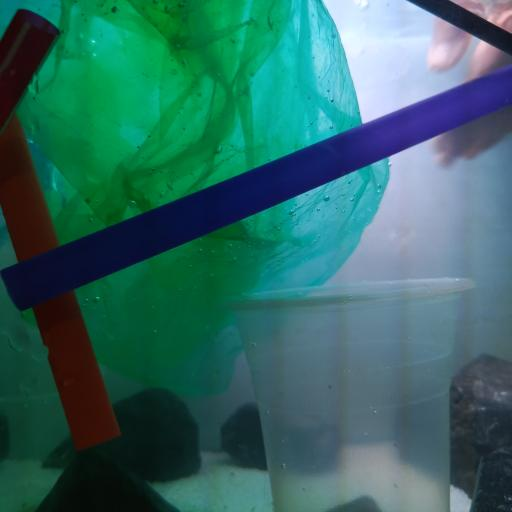plastic_bag: (2, 0, 388, 392)
plastic_cup: (216, 276, 476, 512)
plastic_straw: (1, 62, 512, 310), (0, 110, 122, 454), (0, 8, 61, 133)
